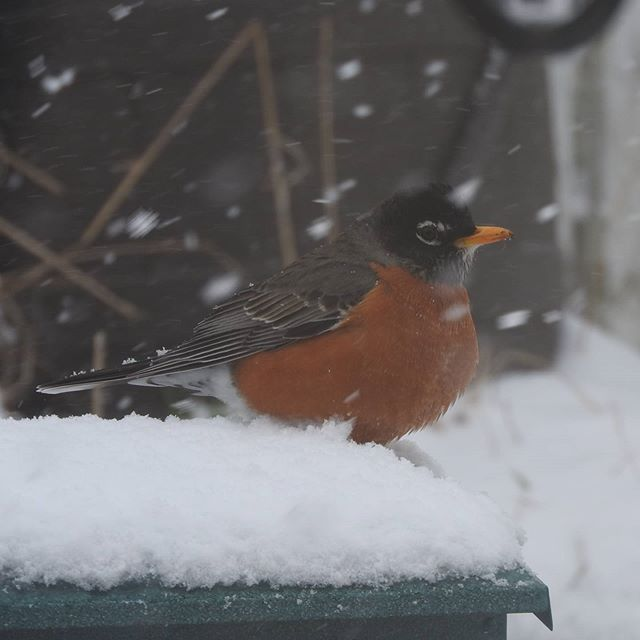animal: (114, 184, 497, 476)
